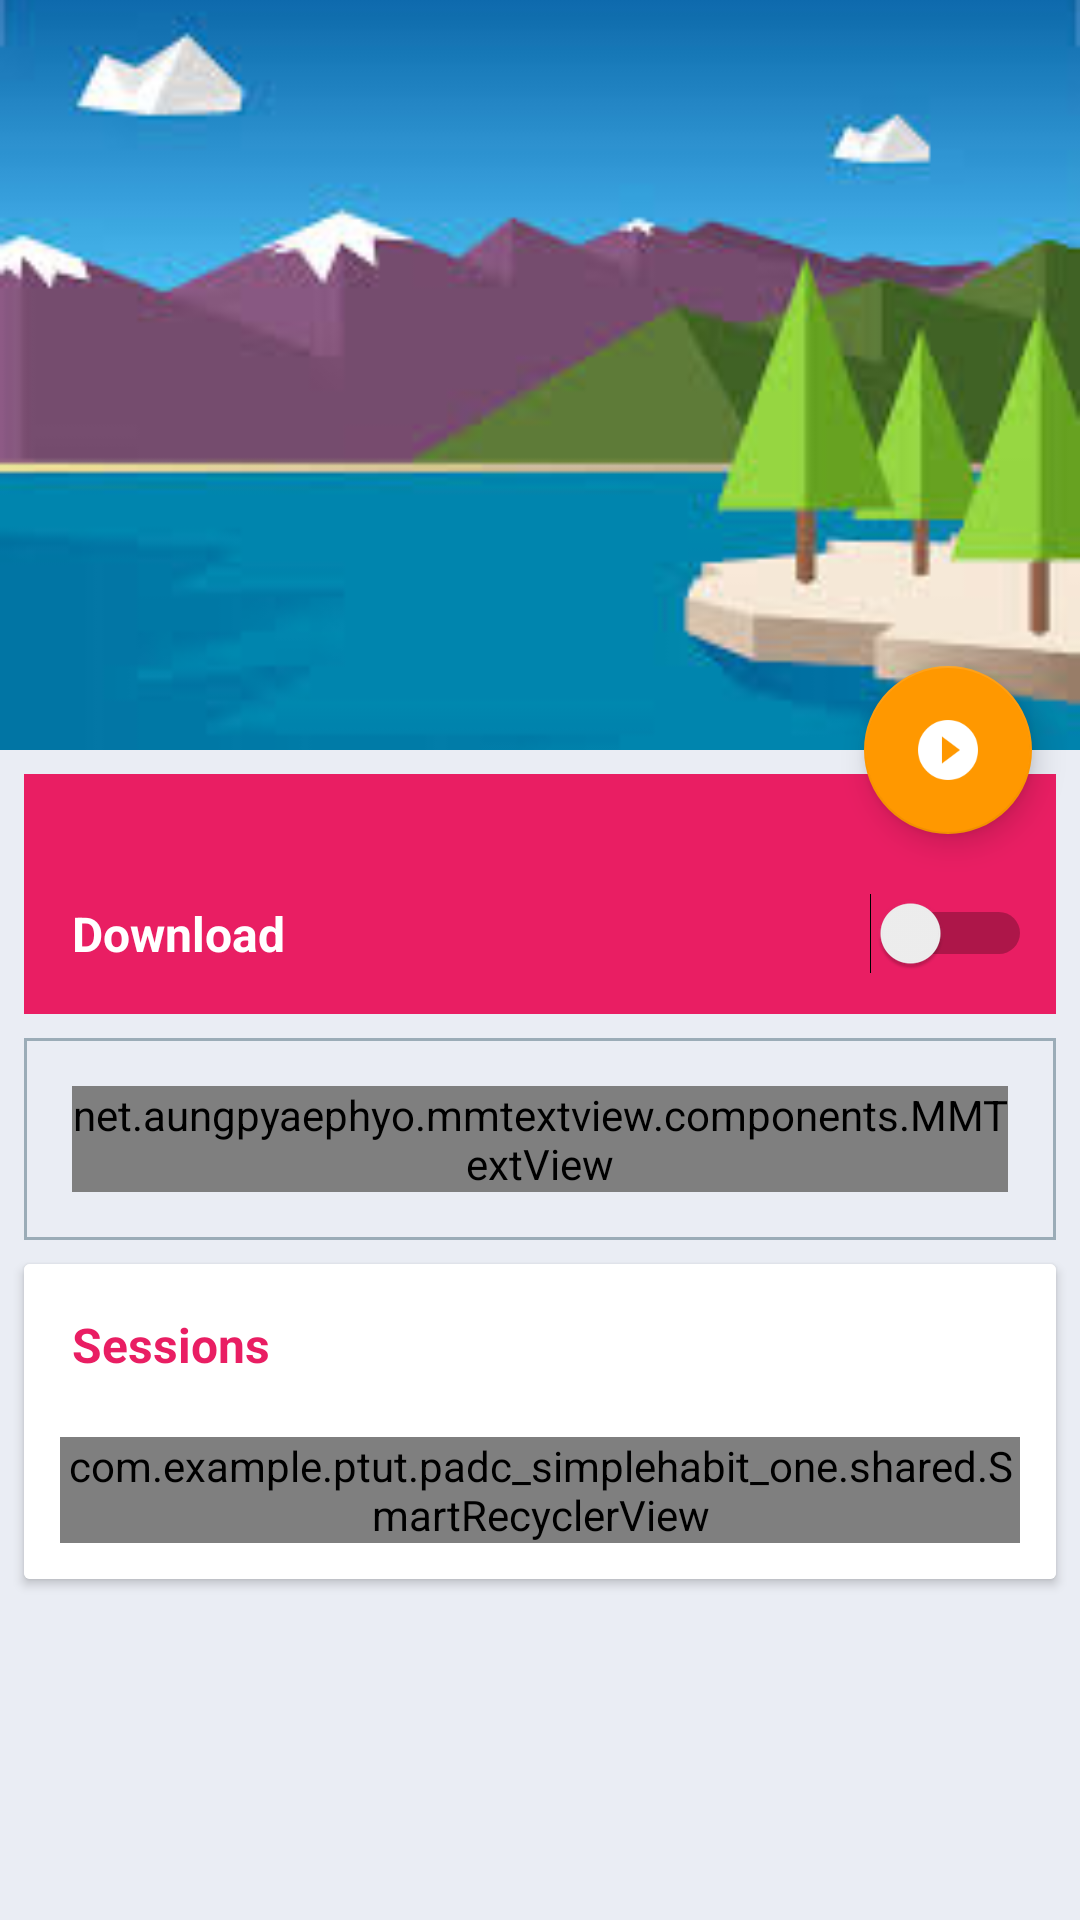

Icons on this 1080×1920 Android screen, each with the point to tap as point (x, y):
play circle: point (948, 750)
